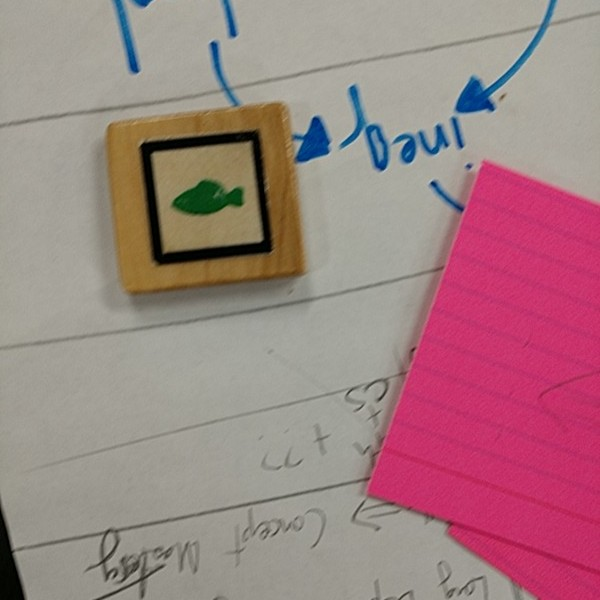Fish Tile: (129, 128, 276, 265)
